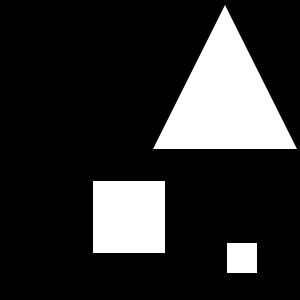circle: (93, 181, 165, 253), (227, 243, 257, 273)
triangle: (153, 5, 297, 149)
